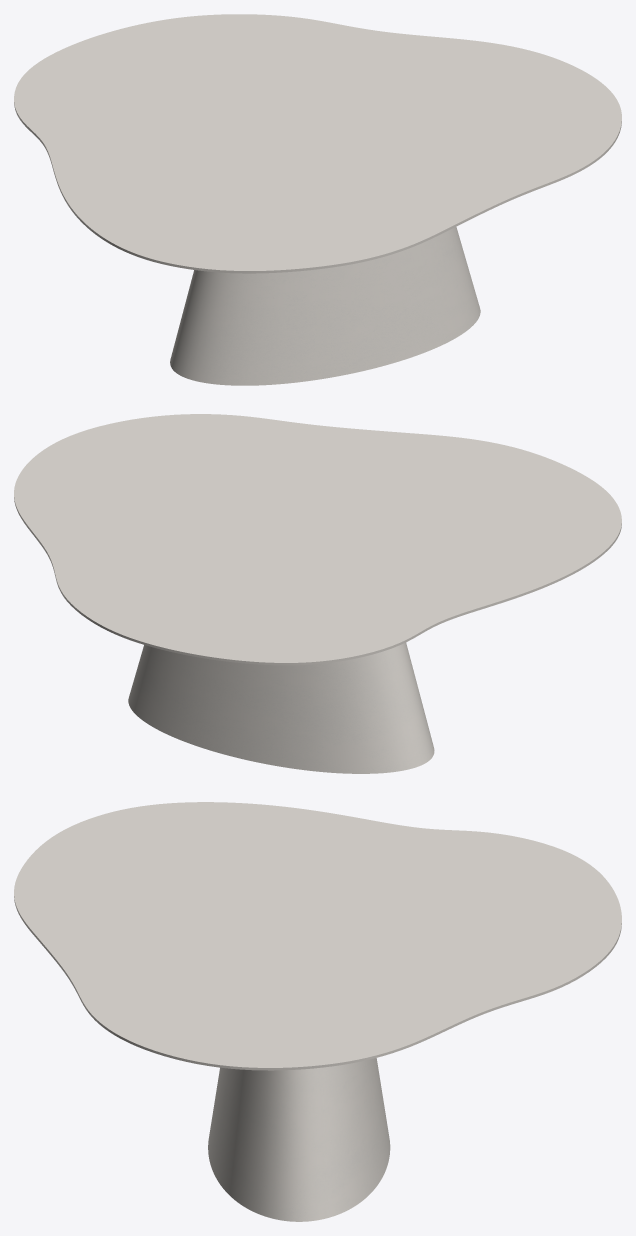
File: pearlwhite_topone_facet_eqone.glb
3 renders of one model, top to bottom at view 1: azimuth 30°, elevation 25°; view 2: azimuth 150°, elevation 25°; view 3: azimuth 270°, elevation 25°, orthographic. The views are drawn at different scales.
Visible parts, largest first — view 1: facet_topone, eqone; view 2: facet_topone, eqone; view 3: facet_topone, eqone.
Part boxes in pixels (x1,y1,x2,y2): facet_topone: (14,14,621,273); eqone: (170,227,480,385); facet_topone: (14,414,621,665); eqone: (128,642,434,773); facet_topone: (14,802,621,1070); eqone: (208,1058,390,1221).
Size of the model in its own units: 6.83 by 2.5 by 6.6.
1 material, 1 textured.
